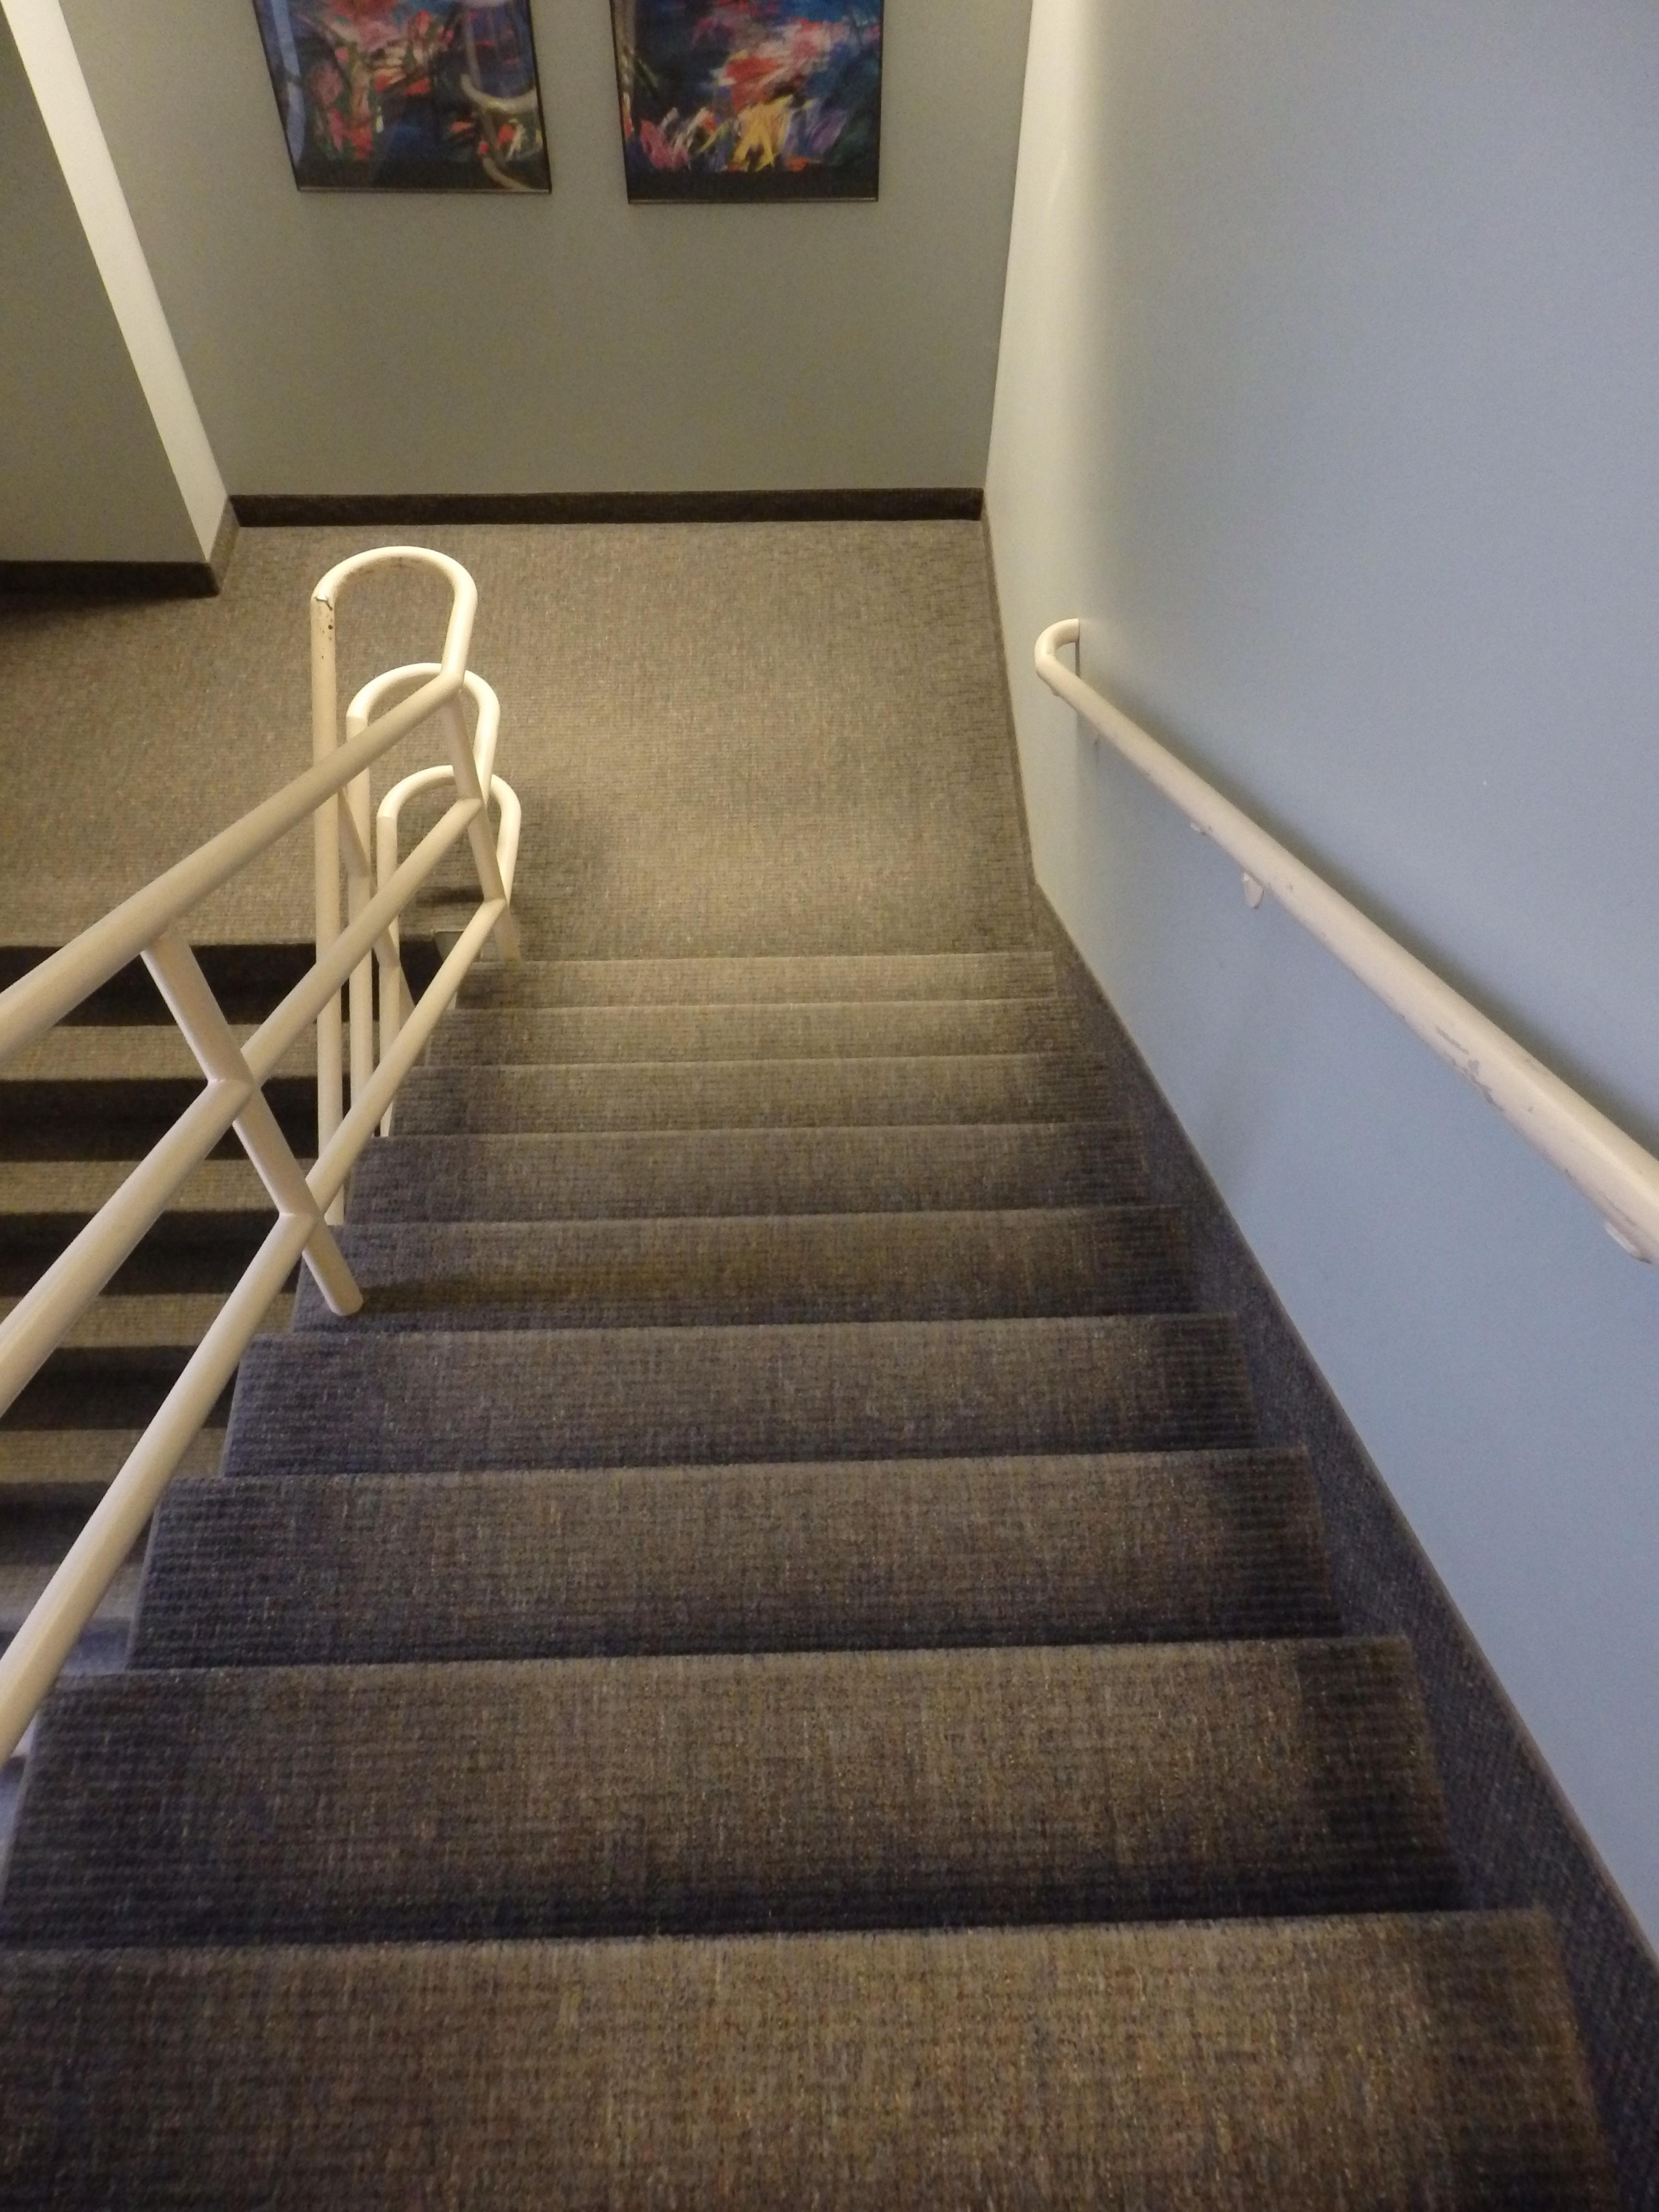stairs_down: (308, 937, 1448, 2161)
